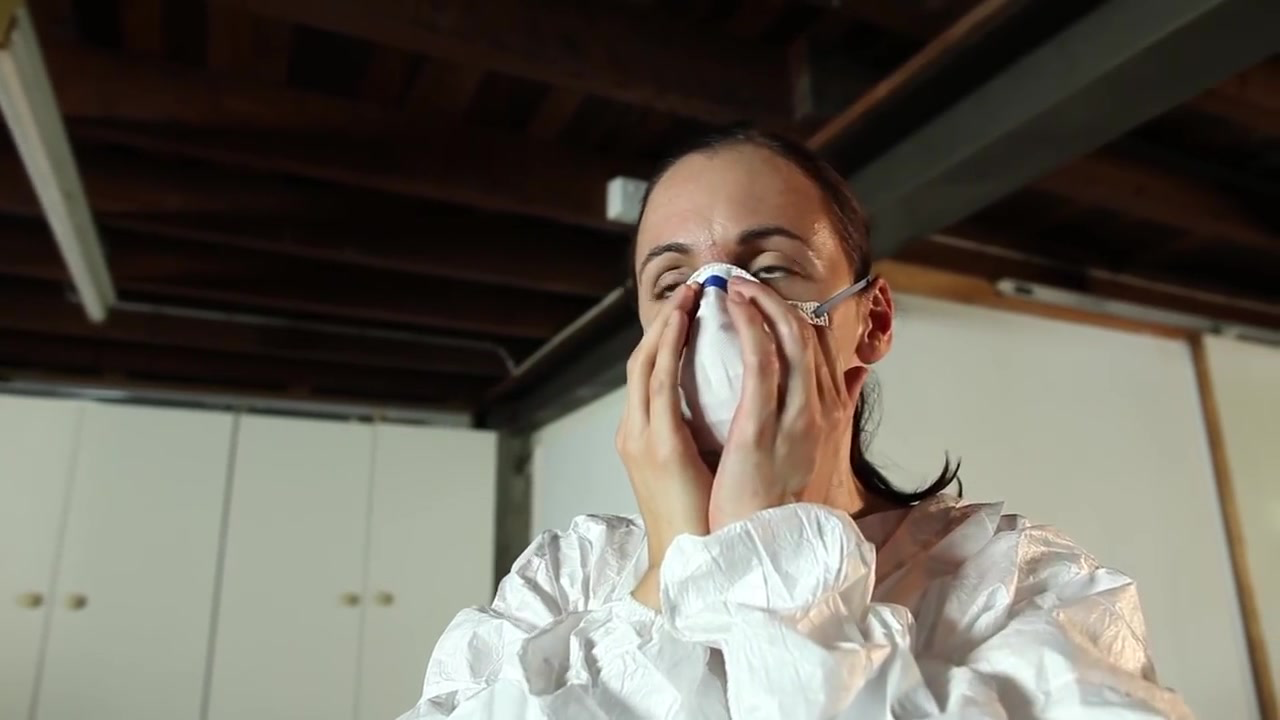Coverall: (432, 500, 1191, 720)
with_mask: (658, 251, 810, 443)
